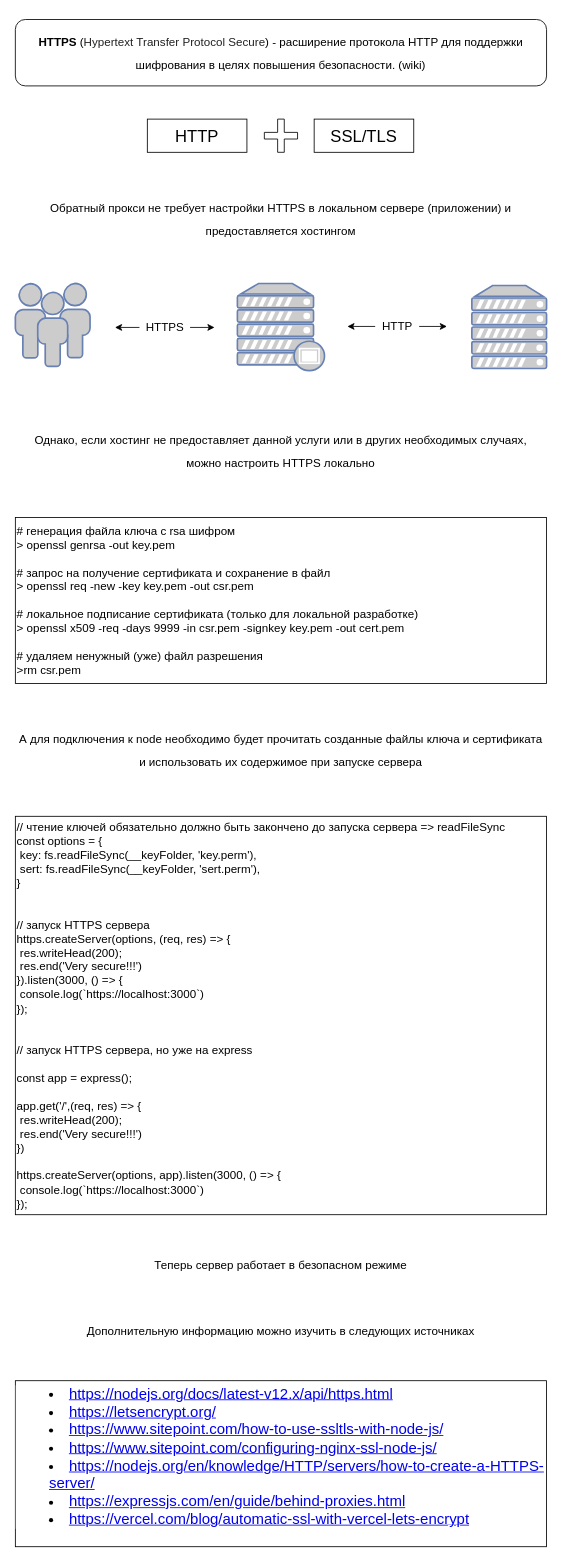
The diagram is 561 pixels wide and 1561 high, and some of its shapes have lost their labels. The shapes that lost their labels are listed below. From the top down, each one's box as (x1, y1, x2, y2) in pixels, then its label:
(14, 282, 90, 367): client
(236, 282, 325, 371): nginx (proxy)
(471, 284, 547, 369): app server
